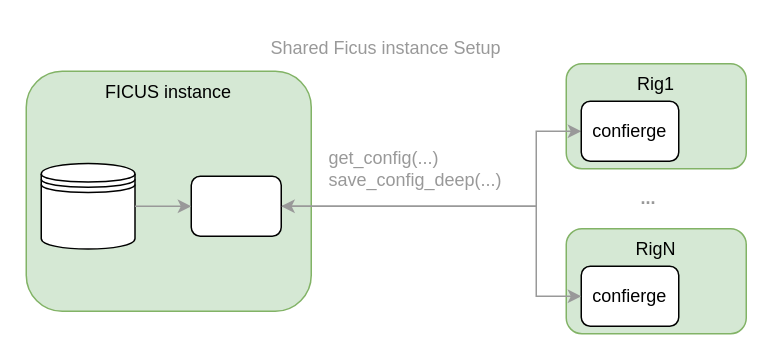
The diagram is 773 pixels wide and 360 high, and some of its shapes have lost their labels. The centre of each missing label's shape, as x and y in pixels:
ficus: the point at 235,205
zookeeper database: the point at 87,205
